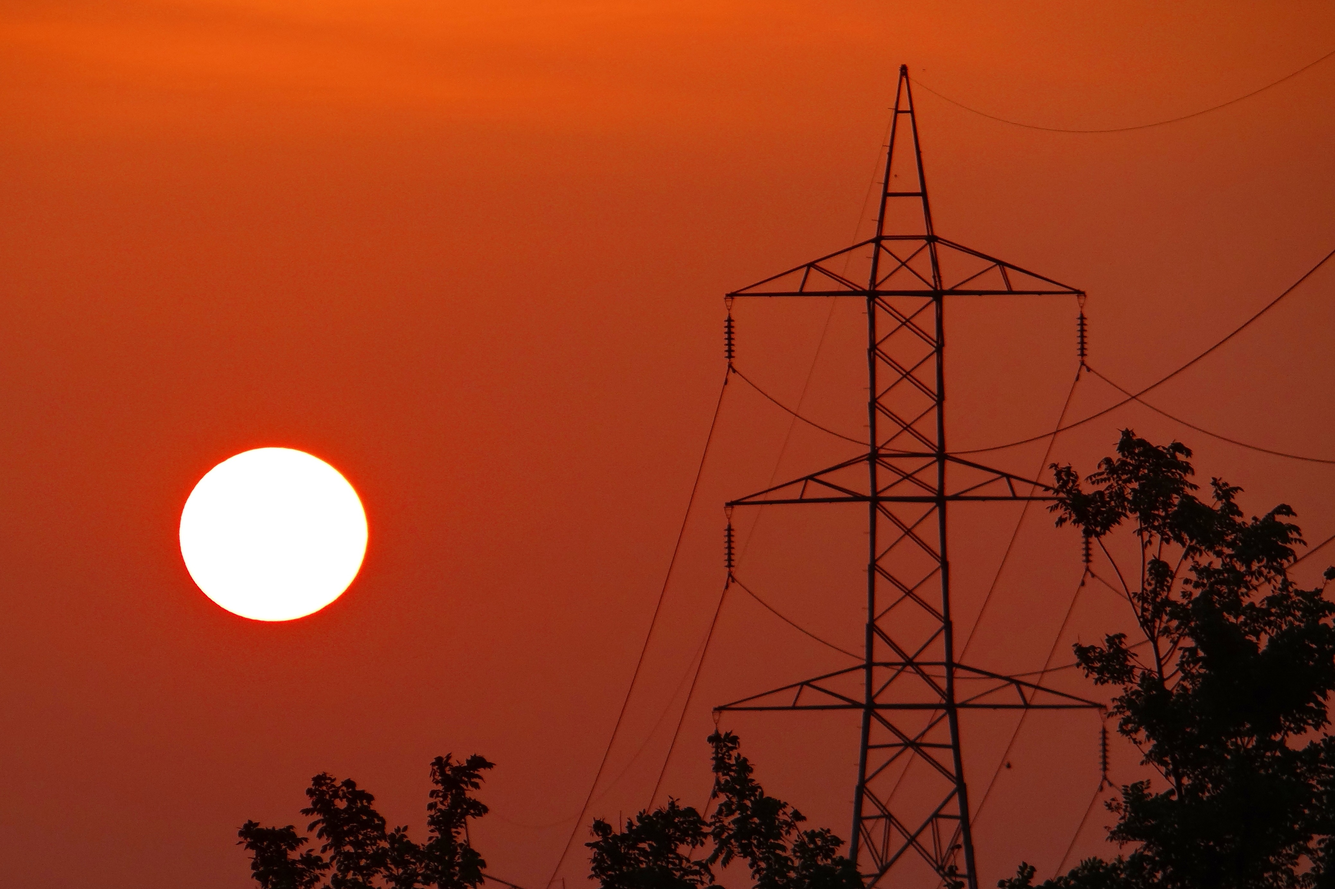insulator: (714, 518, 746, 581), (1067, 310, 1096, 365), (1092, 721, 1118, 780), (1076, 531, 1103, 579), (718, 314, 740, 364)
